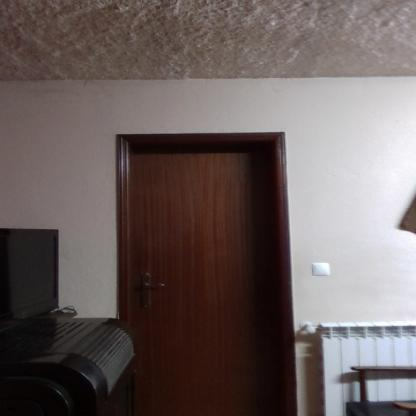door: (127, 152, 276, 416)
lever: (137, 280, 169, 294)
